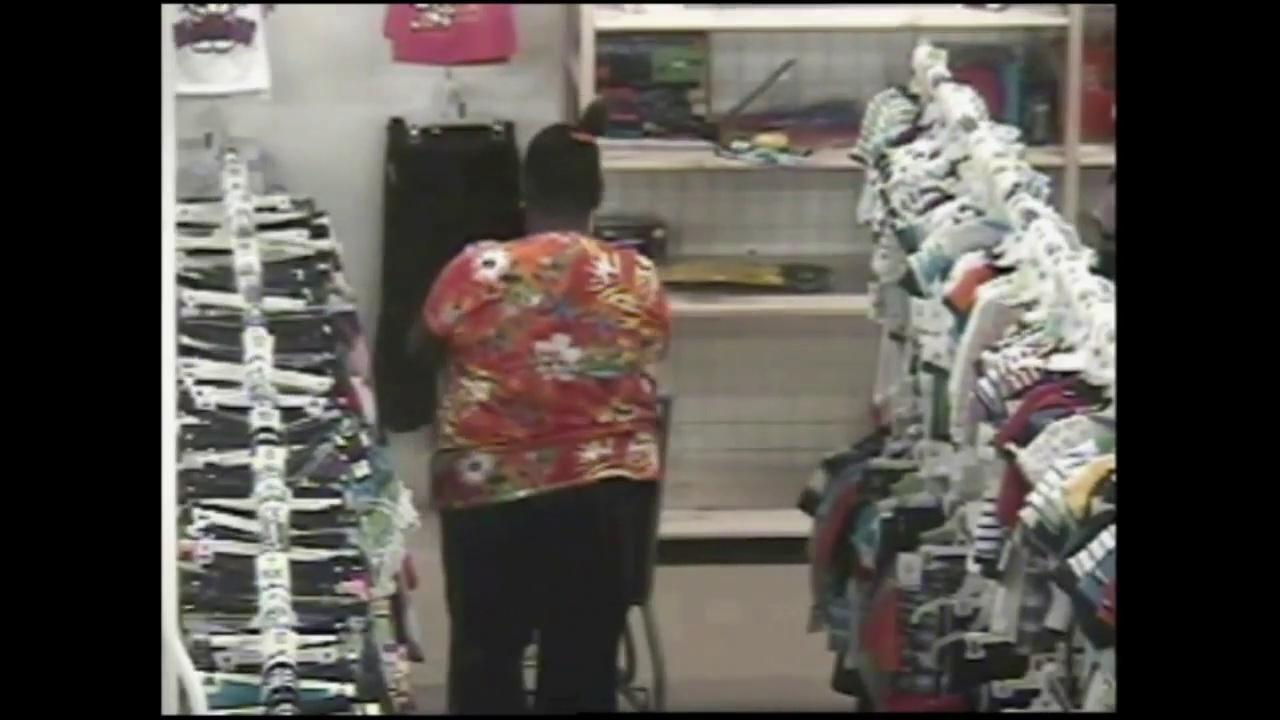Regular: (304, 73, 758, 720)
